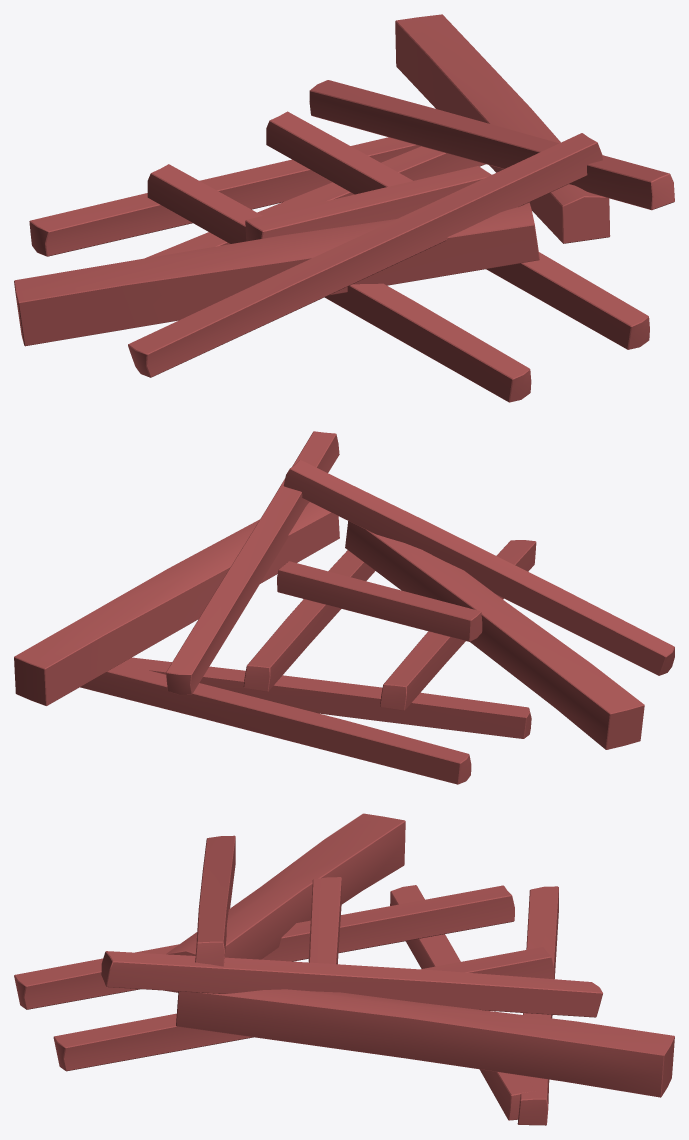
File: Beams_Pile_03_Lod1.fbx
3 views of the same model, one above another, from view 1: azimuth 30°, elevation 25°; view 2: azimuth 150°, elevation 25°; view 3: azimuth 270°, elevation 25° (orthographic). The views are drawn at different scales.
Parts seen in each view (by area): view 1: Beams_Pile_03_Lod1; view 2: Beams_Pile_03_Lod1; view 3: Beams_Pile_03_Lod1.
Part boxes in pixels (x1,y1,x2,y2): Beams_Pile_03_Lod1: [14, 14, 674, 402]; Beams_Pile_03_Lod1: [14, 431, 674, 784]; Beams_Pile_03_Lod1: [14, 813, 674, 1125].
Bounding box in the file's own units: 402 × 101 × 415.
